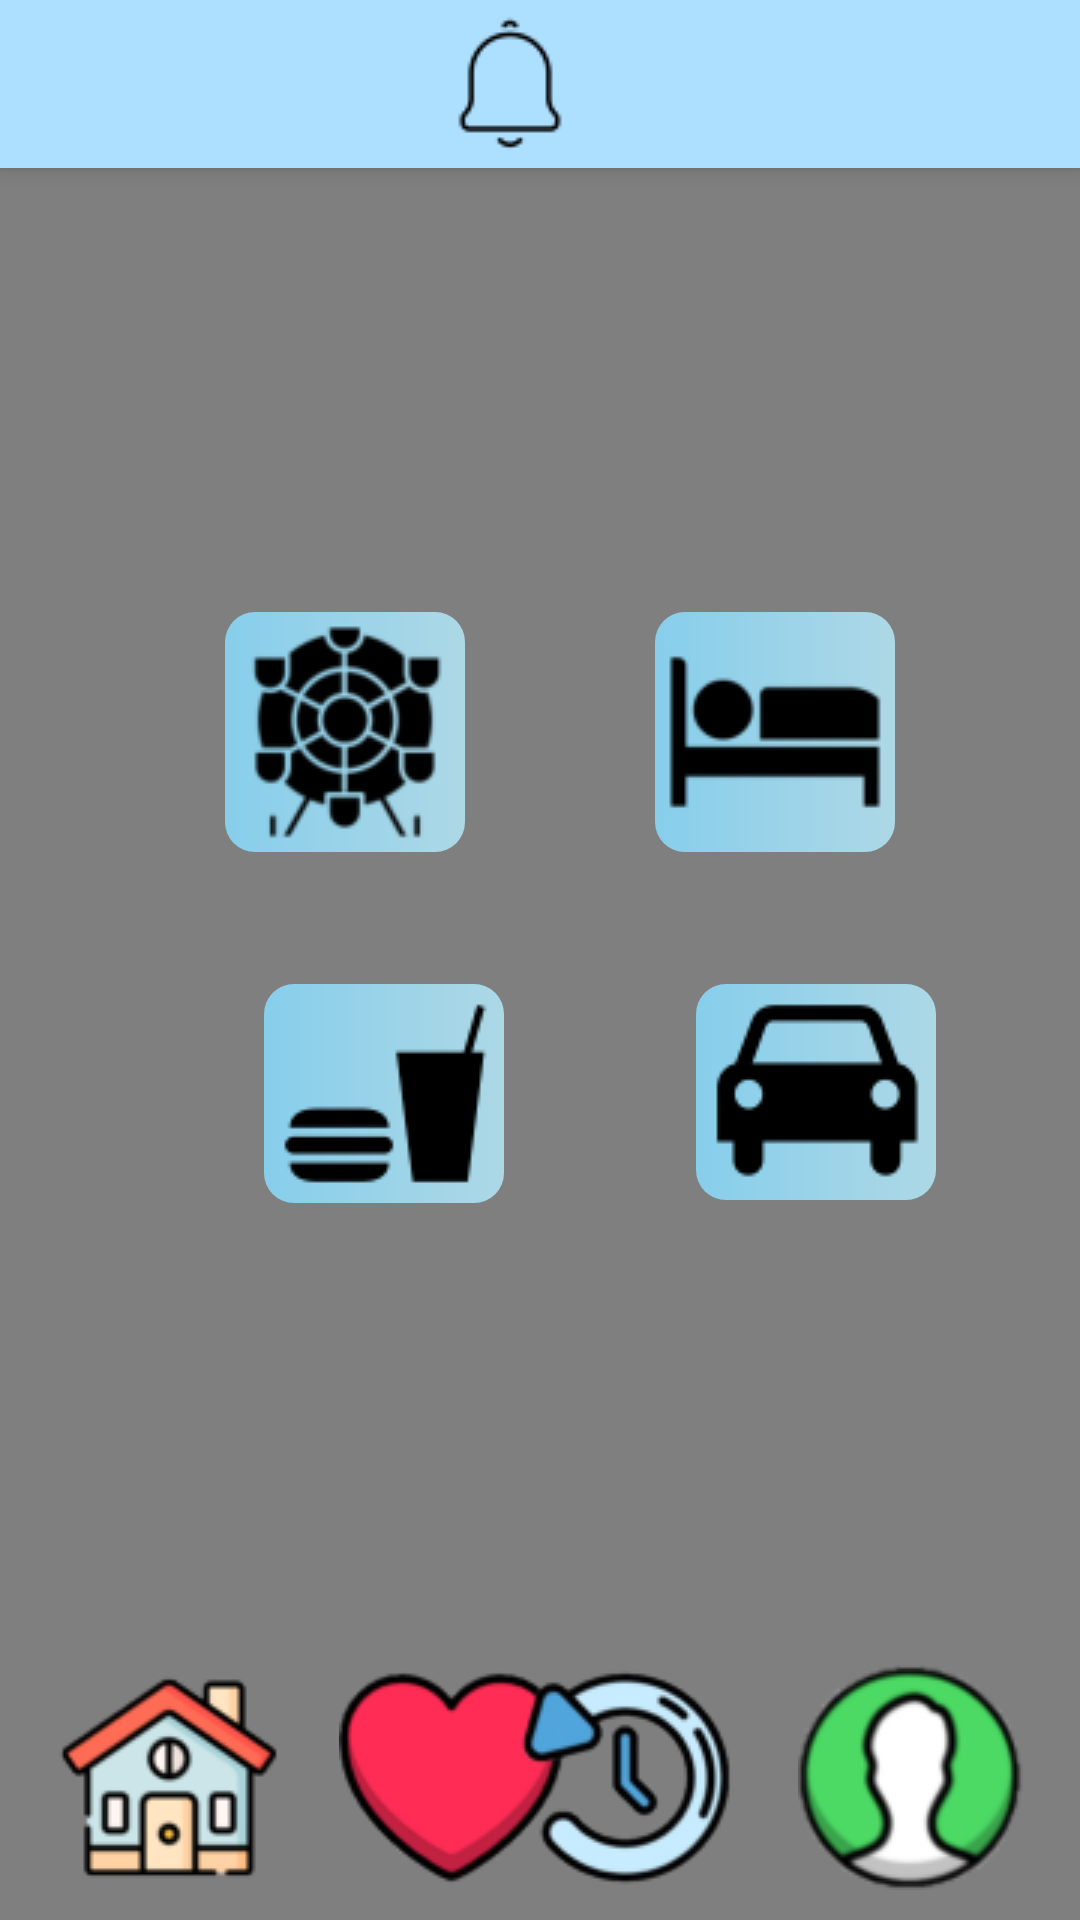

Icons on this 1080px×1920px Android screen, each with its box as detection(x1, y1, x2, y2):
entertainment: detection(225, 612, 465, 852)
food: detection(264, 984, 504, 1203)
heart: detection(339, 1673, 564, 1882)
history: detection(516, 1673, 730, 1882)
home: detection(62, 1679, 277, 1876)
hotel: detection(655, 612, 895, 852)
notification: detection(458, 18, 562, 148)
profile: detection(798, 1667, 1021, 1888)
transport: detection(696, 984, 936, 1200)
